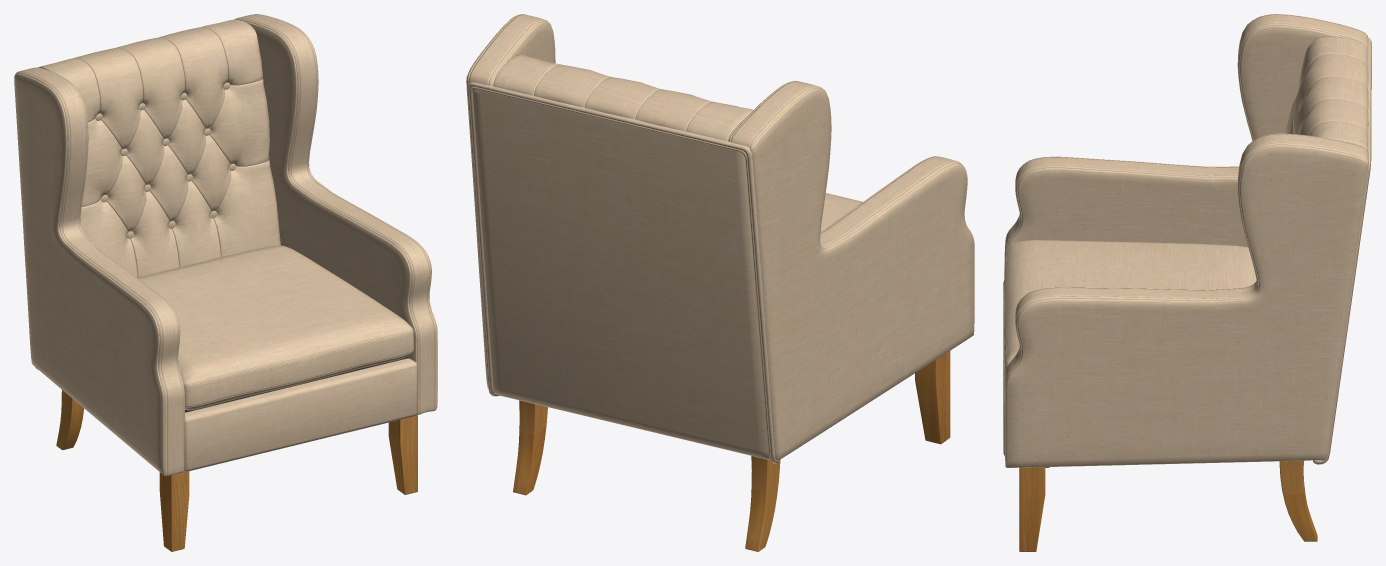
The model's file is abo-B07QDL488Q.glb.
3 views of the same model, side by side, from view 1: azimuth 30°, elevation 25°; view 2: azimuth 150°, elevation 25°; view 3: azimuth 270°, elevation 25° (orthographic). The views are drawn at different scales.
Size of the model in its own units: 0.71 by 0.93 by 0.76.
Materials: 1 (1 with a texture image).
